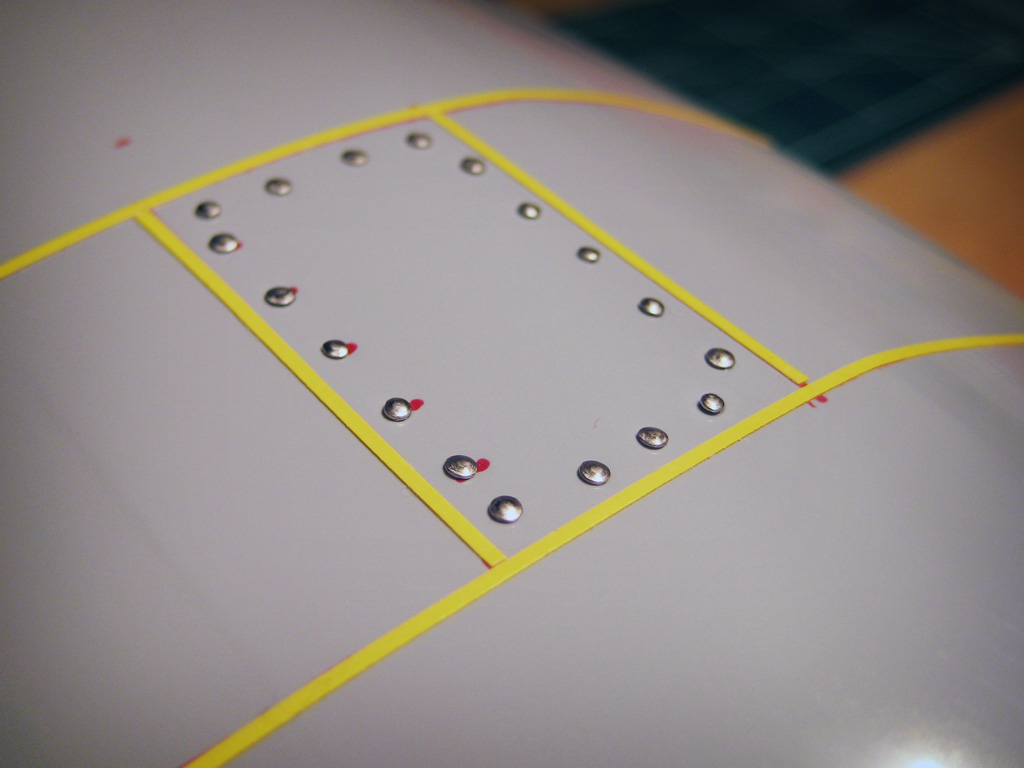rivet: (488, 494, 526, 525), (442, 452, 479, 482), (577, 457, 612, 488), (635, 424, 671, 451), (702, 347, 735, 373), (382, 396, 413, 423), (208, 233, 242, 255), (696, 392, 726, 416), (264, 286, 296, 307), (321, 339, 351, 361), (460, 155, 486, 178), (637, 297, 664, 319), (195, 200, 221, 221), (341, 148, 368, 168), (265, 177, 291, 197), (516, 201, 540, 222), (574, 245, 599, 264), (406, 133, 432, 151)
